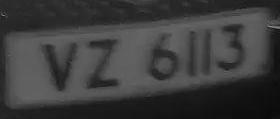1: (177, 25, 202, 82), (198, 23, 219, 81)
3: (214, 20, 251, 77)
6: (143, 29, 187, 87)
V: (39, 36, 82, 97)
Z: (81, 33, 127, 94)
